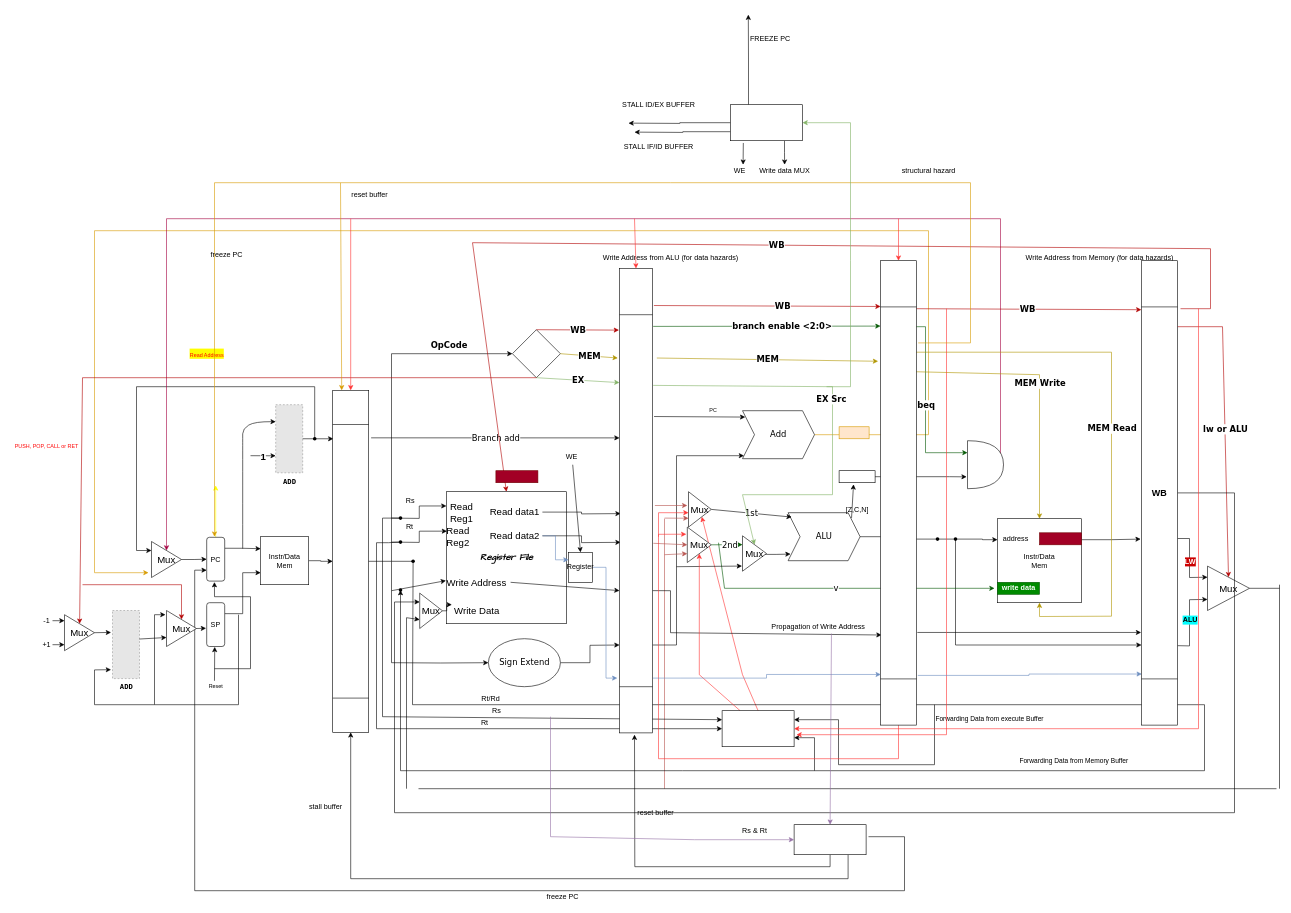
Some shapes in this 1291 by 913 pixel diagram are drawn without their labels. Grey dashed boxes stand in for pictures. Each missing label, with the centre of its shape:
"CCR" goes at pixel 856 476.
"check load/use" goes at pixel 830 839.
"Control" goes at pixel 536 353.
"EX/MEM" goes at pixel 898 492.
"FU" goes at pixel 758 728.
"ID/EX" goes at pixel 635 500.
"IF/ID" goes at pixel 350 561.
"PCout" goes at pixel 853 432.
"Read Data" goes at pixel 1060 538.
"RegWrite" goes at pixel 516 476.
"swap control" goes at pixel 766 122.
